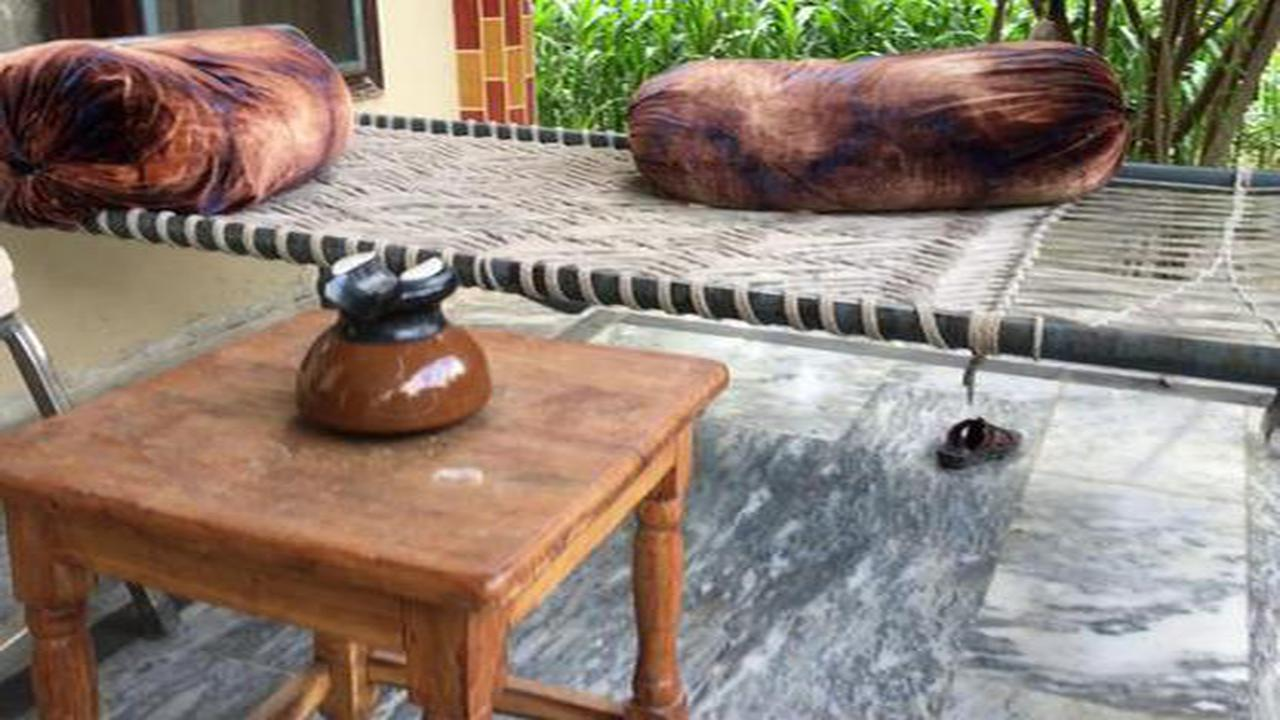insulator_pin: (274, 231, 508, 444)
